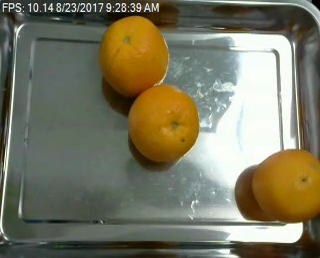Orange: (128, 84, 200, 162), (100, 15, 170, 95), (252, 148, 320, 222)
